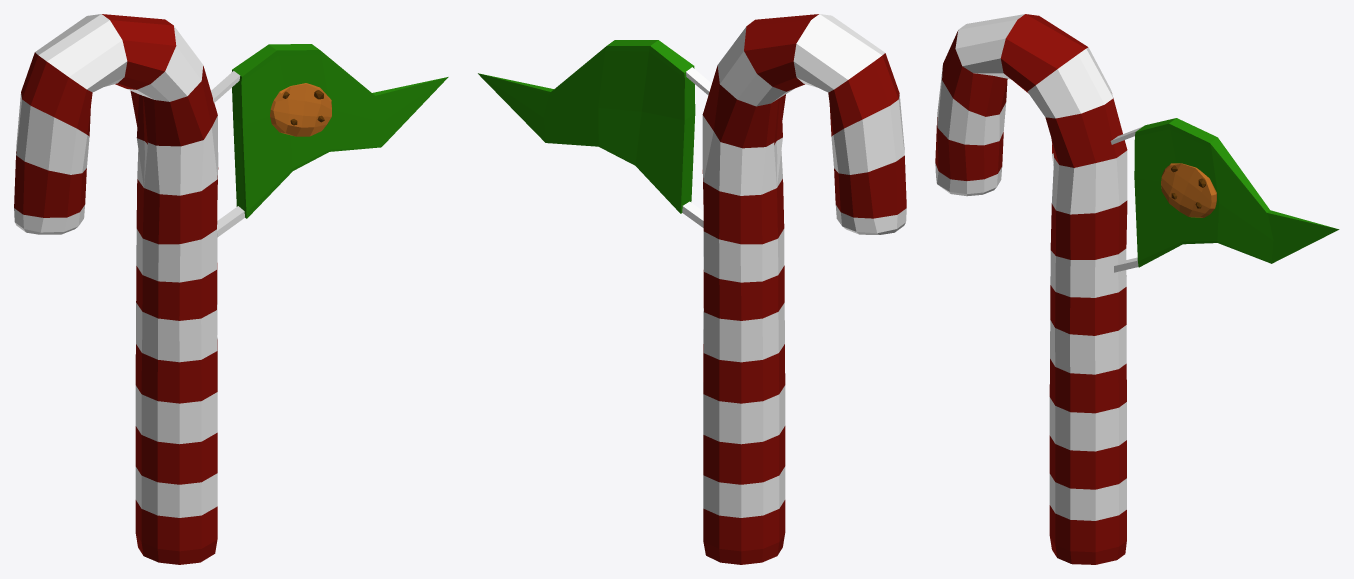
The model's file is Meta.fbx.
The picture shows the model from 3 angles, left to right: view 1: azimuth 30°, elevation 25°; view 2: azimuth 150°, elevation 25°; view 3: azimuth 330°, elevation 25°; orthographic projection. The views are drawn at different scales.
Parts seen in each view (by area): view 1: Meta; view 2: Meta; view 3: Meta.
Boxes of the visible parts, <box> form: Meta: <box>14,14,448,564</box>; Meta: <box>478,14,906,564</box>; Meta: <box>935,14,1339,564</box>.
Bounding box in the file's own units: 331 × 405 × 60.54.
